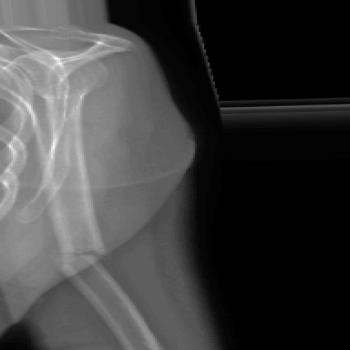Fracture: (51, 235, 121, 272)
